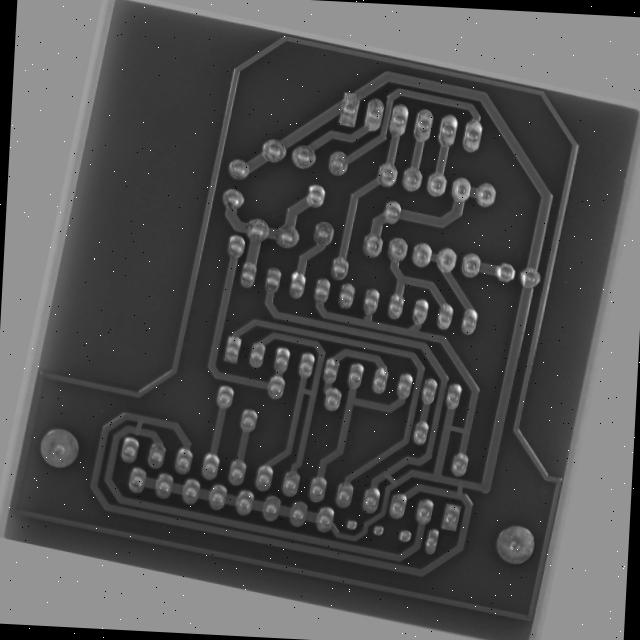short: (473, 405, 515, 430), (412, 471, 445, 500), (123, 454, 148, 488), (495, 469, 520, 499), (303, 391, 334, 414)
